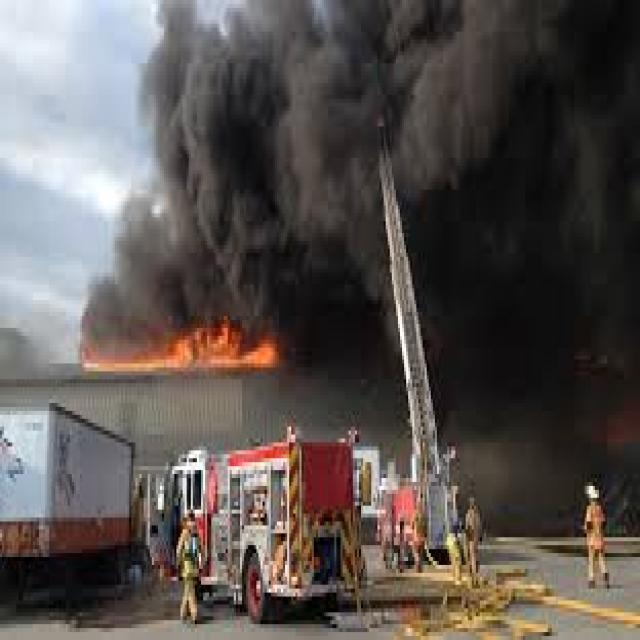fire: (76, 324, 279, 379)
smoke: (382, 4, 628, 446), (76, 4, 379, 324)
